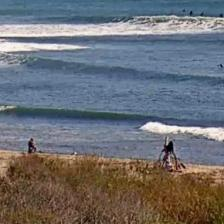surfer: (216, 63, 223, 70), (188, 11, 194, 17), (199, 11, 205, 17), (218, 13, 224, 18), (181, 9, 187, 13)
